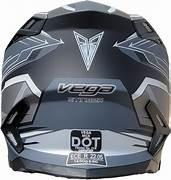Helmet: (1, 4, 168, 177)
